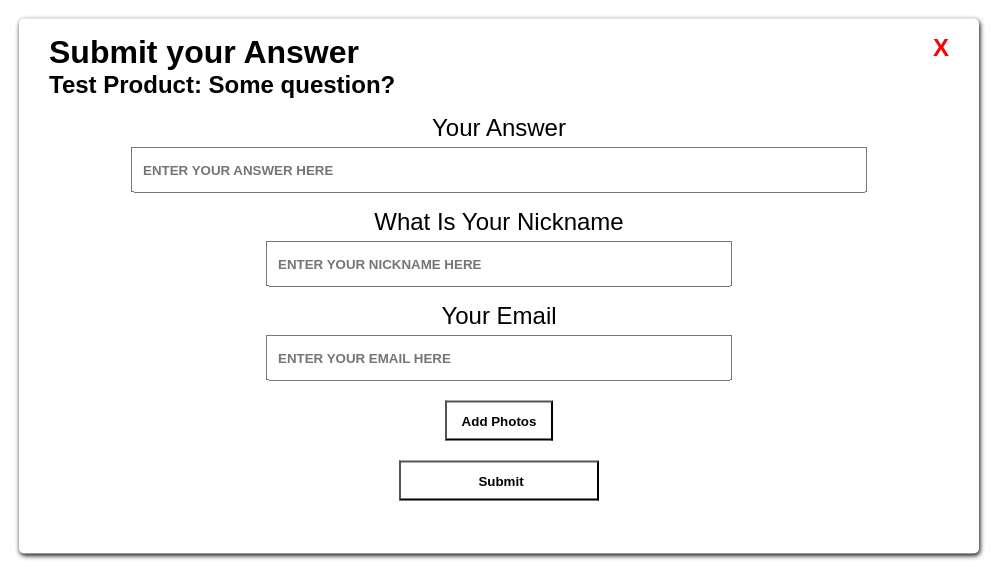
Test: Add answer › Should post answer with valid information and display Answer added
The image size is (1001, 577).
Type "Test answer" into the field with placeholder "ENTER YOUR ANSWER HERE".
click(499, 170); type("Test answer")  # box [131, 146, 867, 192]
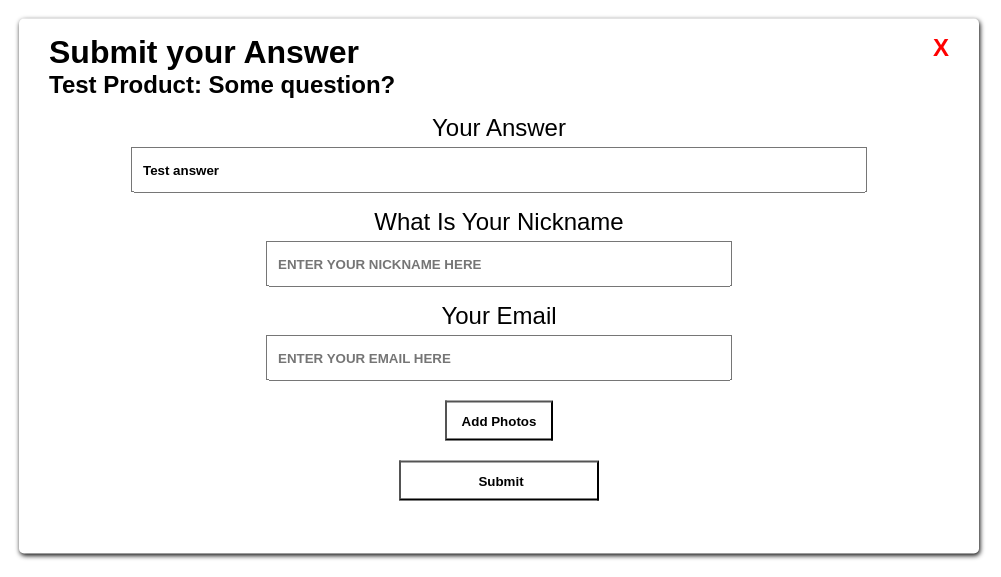
Type "TestNickname" into the field with placeholder "ENTER YOUR NICKNAME HERE".
click(499, 264); type("TestNickname")  # box [266, 240, 732, 286]
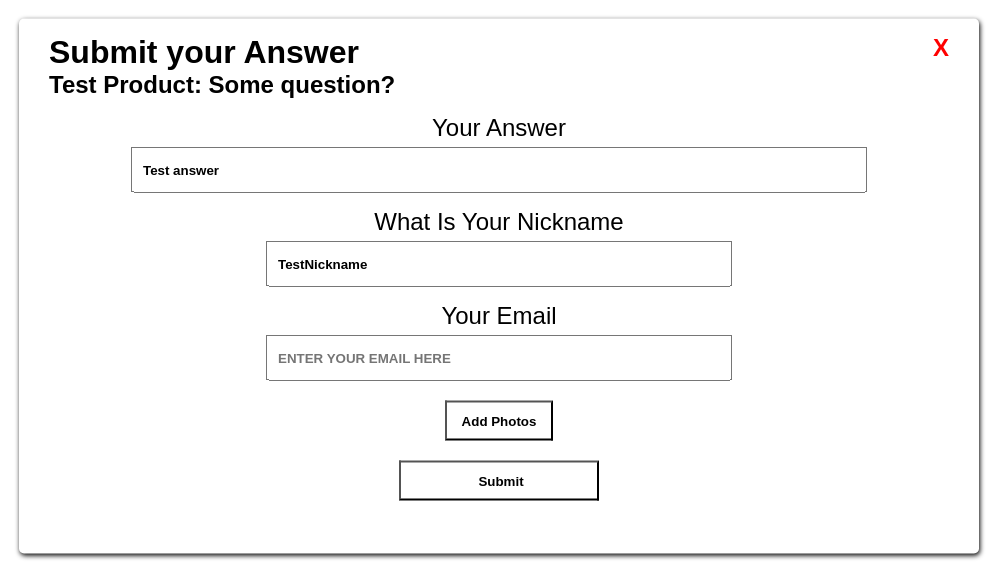
Type "test@email.com" into the field with placeholder "ENTER YOUR EMAIL HERE".
click(499, 358); type("test@email.com")  # box [266, 334, 732, 380]
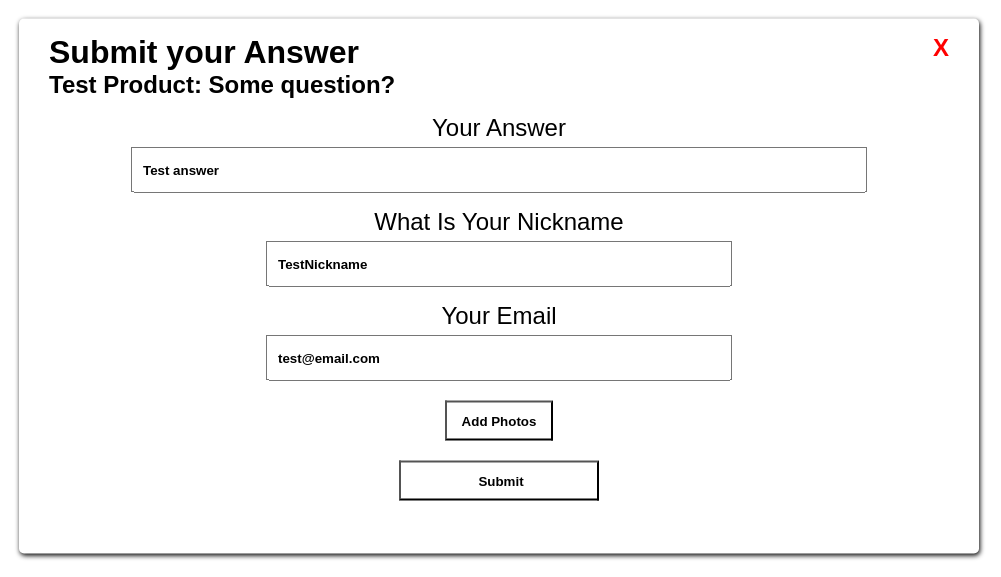
Click the button with test id "qa-addQuestion-submit".
click(499, 480)  # box [399, 460, 599, 500]
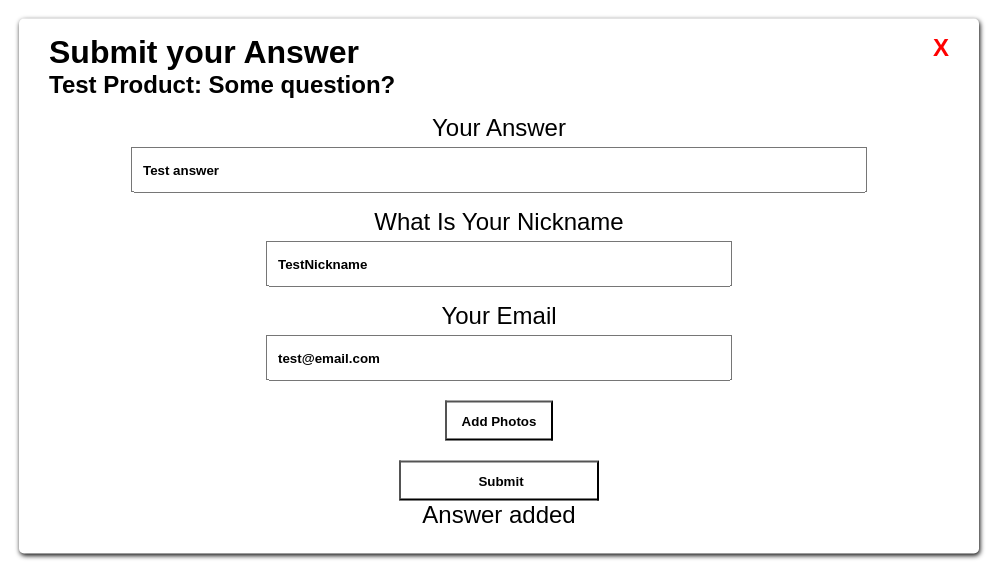
Now the text "Answer added" is shown, box [422, 500, 576, 528]
